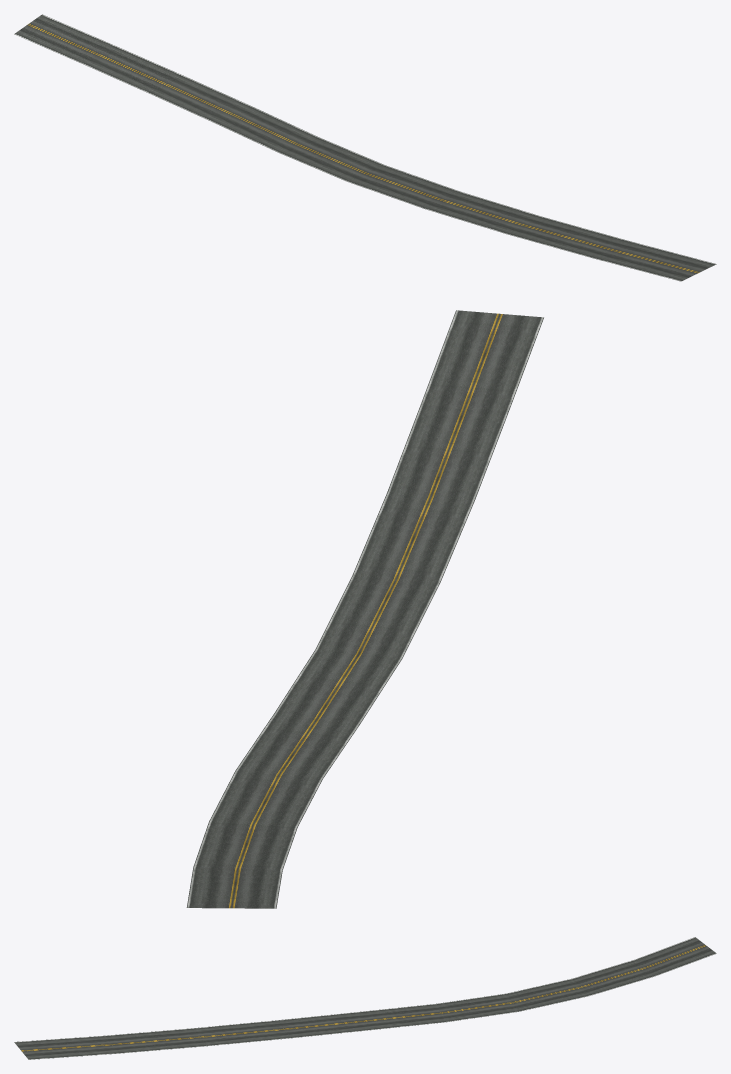
Rendered from cuntwroad11.obj.
The picture shows the model from 3 angles, top to bottom: view 1: azimuth 30°, elevation 25°; view 2: azimuth 150°, elevation 25°; view 3: azimuth 270°, elevation 25°; orthographic projection. The views are drawn at different scales.
Parts seen in each view (by area): view 1: cuntwroad11; view 2: cuntwroad11; view 3: cuntwroad11.
Part boxes in pixels (x1,y1,x2,y2): cuntwroad11: (14, 14, 716, 281); cuntwroad11: (186, 310, 543, 908); cuntwroad11: (14, 937, 716, 1059).
Bounding box in the file's own units: 75.2 × 7.09 × 188.
Materials: 1 (1 with a texture image).
